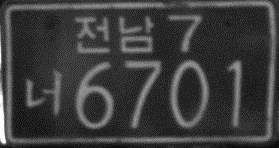0: (169, 58, 210, 129)
1: (225, 56, 243, 128)
6: (74, 59, 117, 130)
7: (122, 58, 161, 130), (167, 11, 202, 51)
너: (23, 66, 62, 117)
전남_O: (72, 13, 155, 55)
